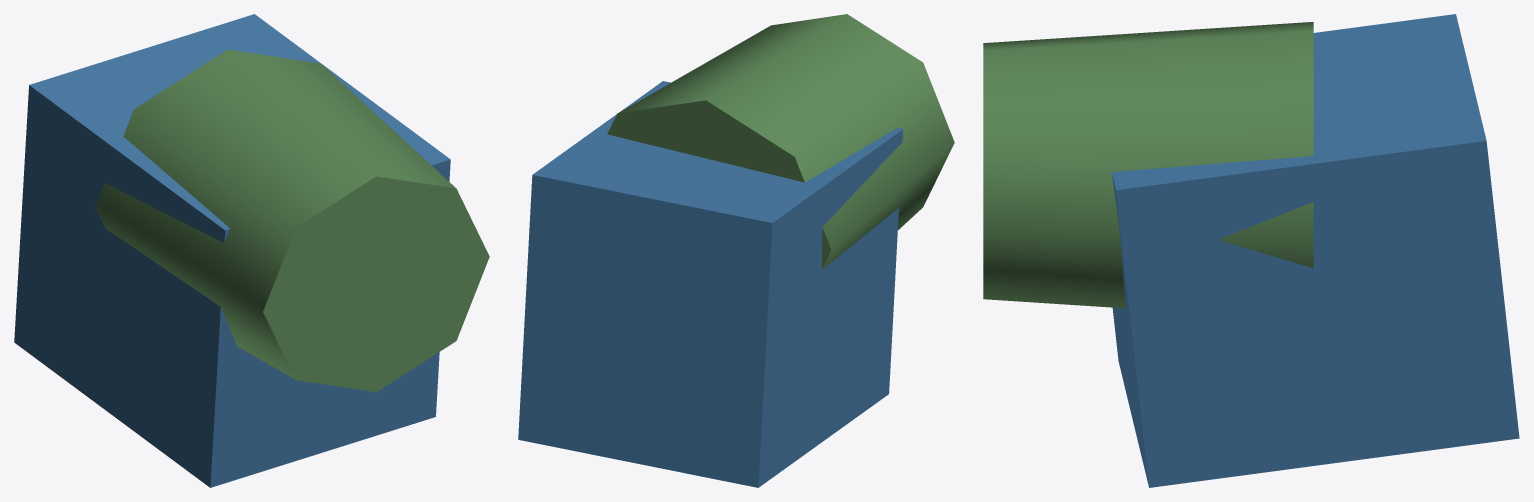
The model's file is wpn_m_10.glb.
The picture shows the model from 3 angles, left to right: view 1: azimuth 30°, elevation 25°; view 2: azimuth 150°, elevation 25°; view 3: azimuth 270°, elevation 25°; orthographic projection. The views are drawn at different scales.
Visible parts, largest first — view 1: knuckle, gauntlet; view 2: gauntlet, knuckle; view 3: gauntlet, knuckle.
Boxes of the visible parts, bbox=[...] form: knuckle: bbox=[95, 49, 489, 392]; gauntlet: bbox=[14, 14, 450, 487]; gauntlet: bbox=[518, 81, 903, 487]; knuckle: bbox=[607, 14, 954, 269]; gauntlet: bbox=[1111, 14, 1519, 487]; knuckle: bbox=[983, 22, 1313, 308].
Size of the model in its own units: 0.3125 by 0.3875 by 0.4872.
